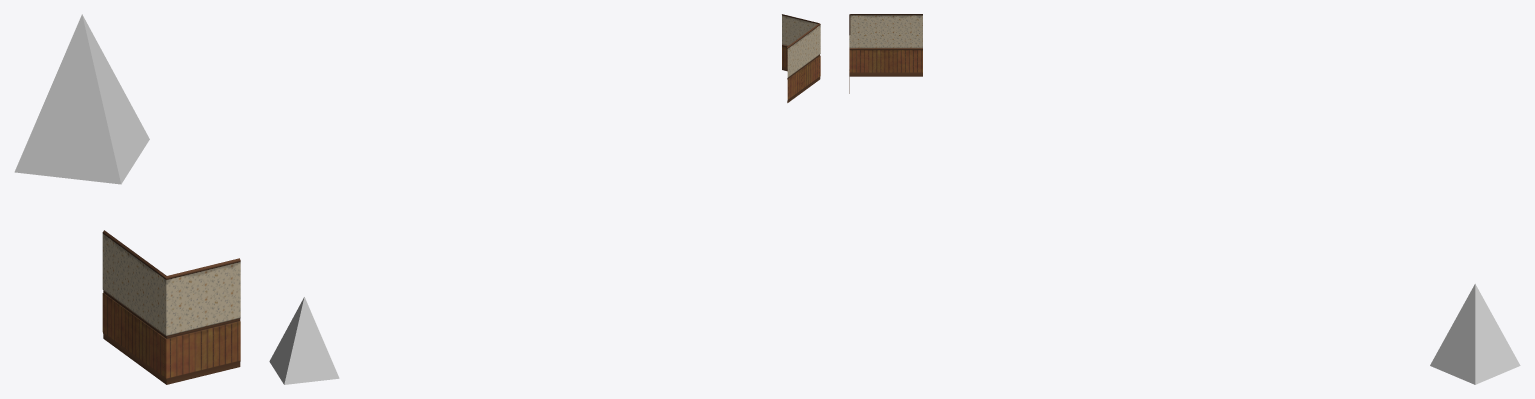
The model's file is SM_floor2_Hall_03.fbx.
3 renders of one model, left to right at view 1: azimuth 30°, elevation 25°; view 2: azimuth 150°, elevation 25°; view 3: azimuth 270°, elevation 25°, orthographic. The views are drawn at different scales.
Visible parts, largest first — view 1: Trim_Wall2ndfloor.003, SM_referemcepoint; view 2: SM_referemcepoint, Trim_Wall2ndfloor.003; view 3: SM_referemcepoint, Trim_Wall2ndfloor.003.
Part boxes in pixels (bbox=[...]): Trim_Wall2ndfloor.003: bbox=[102, 230, 240, 384]; SM_referemcepoint: bbox=[14, 14, 149, 184]; SM_referemcepoint: bbox=[269, 297, 339, 384]; Trim_Wall2ndfloor.003: bbox=[782, 14, 820, 102]; SM_referemcepoint: bbox=[1430, 284, 1520, 384]; Trim_Wall2ndfloor.003: bbox=[849, 14, 922, 93].
Bounding box in the file's own units: 1324 × 2537 × 932.
